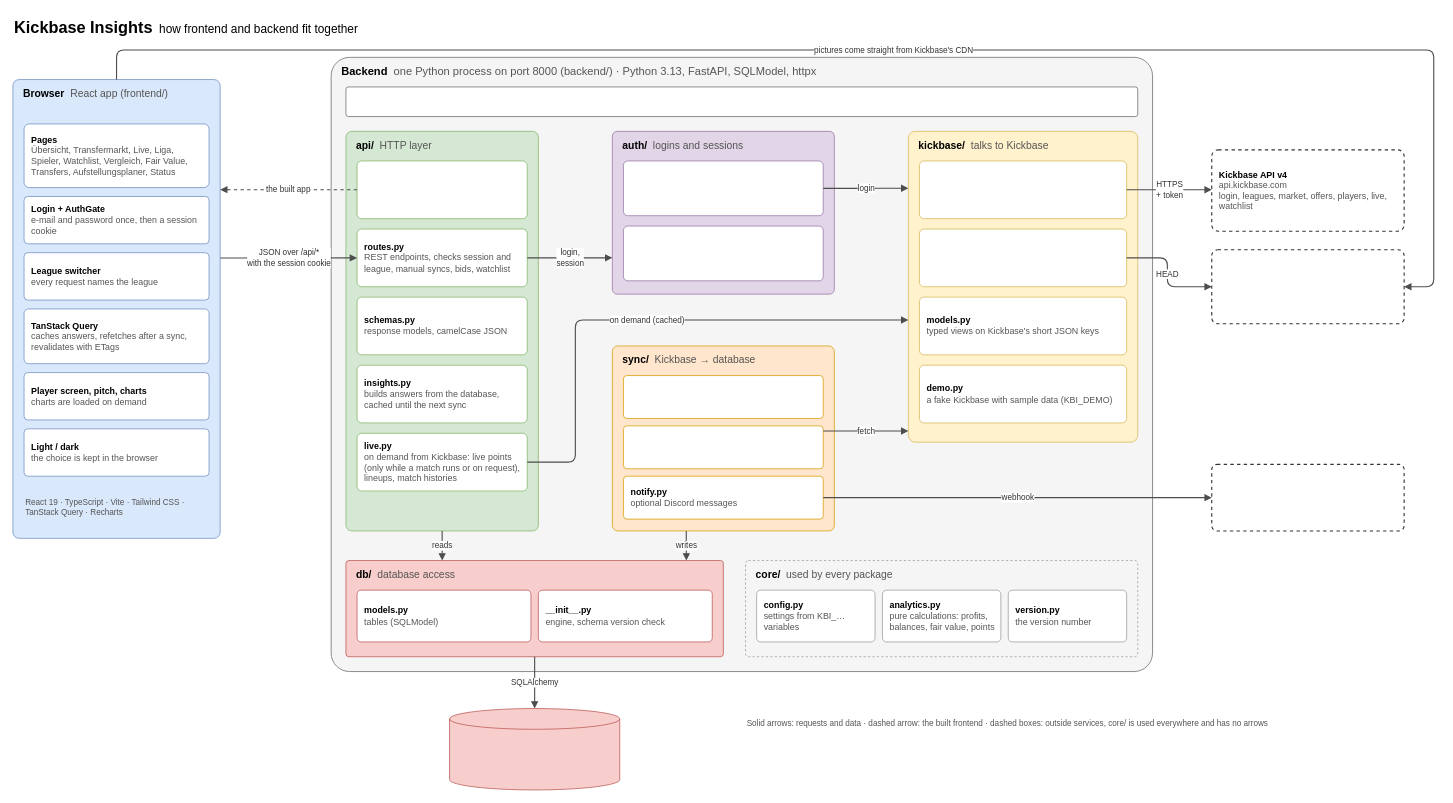
This 1453x803 diagram has some shape labels left out. The centre of each missing label's shape, as x and y in pixels:
"accounts.py login through Kickbase, sessions, which token syncs which league" goes at [723,188].
"app.py creates the app, gzip + ETags, serves the built frontend" goes at [441,189].
"client.py async API client with retries and a concurrency limit" goes at [1023,189].
"Database SQLite file in /data or PostgreSQL" goes at [534,749].
"Discord optional webhook: failed syncs, collected bonus" goes at [1307,497].
"Kickbase CDN kickbase.b-cdn.net portraits, club logos, avatars" goes at [1307,286].
"main.py python main.py → start · sync · healthcheck (used by Docker)" goes at [741,101].
"pictures.py player portraits from the CDN's picture pool" goes at [1023,257].
"scheduler.py cron schedule, by default 6 times a day" goes at [723,396].
"security.py Kickbase tokens encrypted, session cookies hashed" goes at [723,253].
"service.py incremental sync of a league" goes at [723,447].
